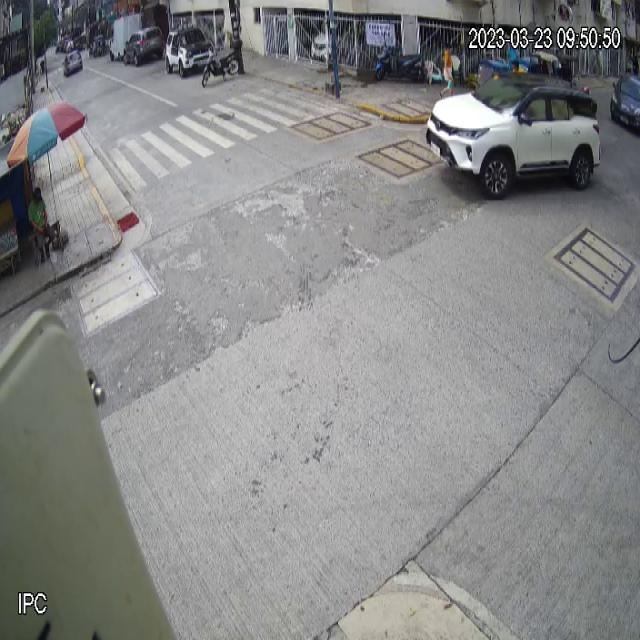Car: (424, 77, 605, 200)
